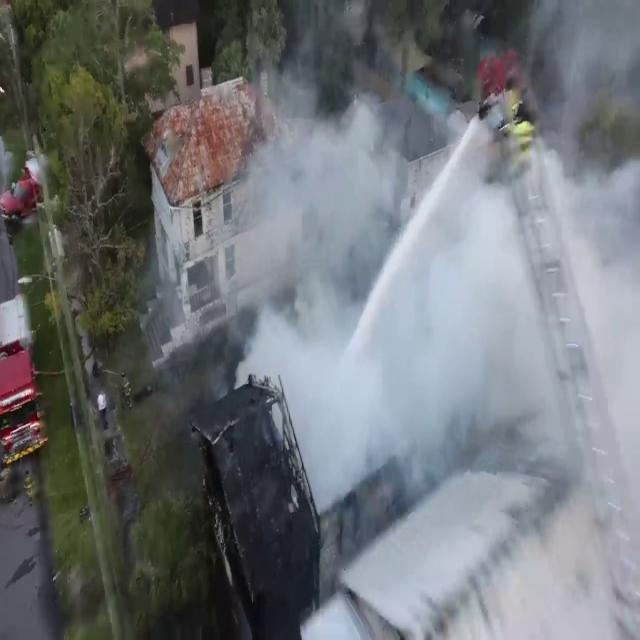Smoke: (244, 255, 420, 538)
